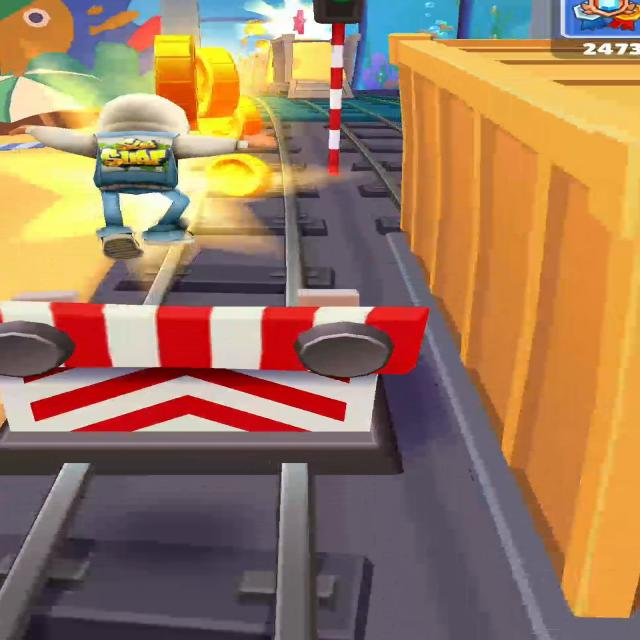climber: (269, 34, 331, 98), (342, 34, 359, 98)
roll blocker: (0, 301, 429, 473)
train: (390, 37, 639, 633), (390, 34, 639, 617)
